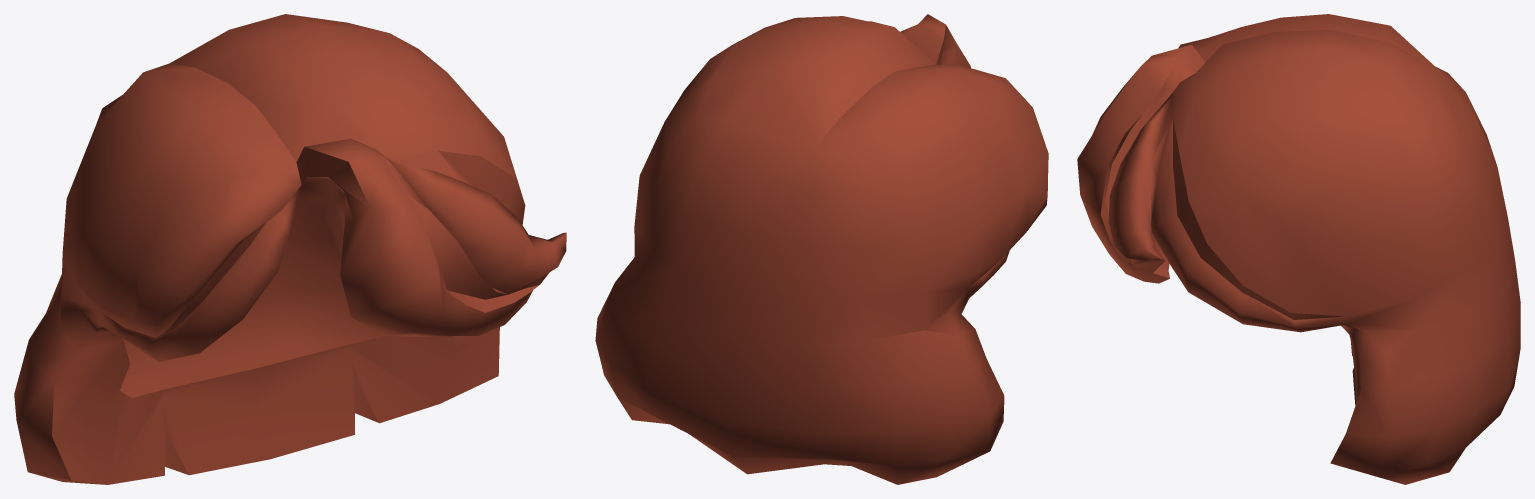
File: Hair_Brown_7.fbx
3 views of the same model, side by side, from view 1: azimuth 30°, elevation 25°; view 2: azimuth 150°, elevation 25°; view 3: azimuth 270°, elevation 25° (orthographic). The views are drawn at different scales.
Parts seen in each view (by area): view 1: Hair_Brown_7; view 2: Hair_Brown_7; view 3: Hair_Brown_7.
Boxes of the visible parts, x1,y1,x2,y2 form: Hair_Brown_7: (14,14,566,484); Hair_Brown_7: (595,14,1048,484); Hair_Brown_7: (1077,14,1520,484).
Size of the model in its own units: 67.35 by 62.65 by 64.72.
